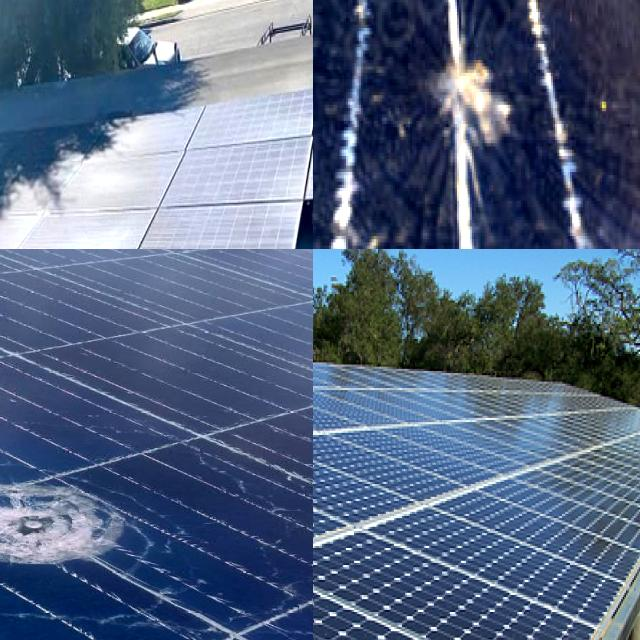crack: (407, 580, 501, 640), (374, 560, 452, 618), (350, 540, 410, 596), (313, 548, 391, 590), (500, 546, 558, 592), (537, 564, 594, 608), (428, 518, 493, 556), (462, 524, 518, 568), (469, 609, 546, 640), (313, 512, 341, 581), (313, 463, 339, 529), (313, 463, 352, 506), (313, 599, 336, 640), (313, 454, 341, 487), (313, 600, 334, 640), (313, 613, 339, 640)
dust: (156, 210, 287, 249), (190, 150, 296, 193), (202, 102, 312, 135), (85, 162, 156, 207), (37, 217, 116, 249), (110, 120, 182, 148)
hotspot: (0, 434, 152, 597), (408, 39, 540, 185)
